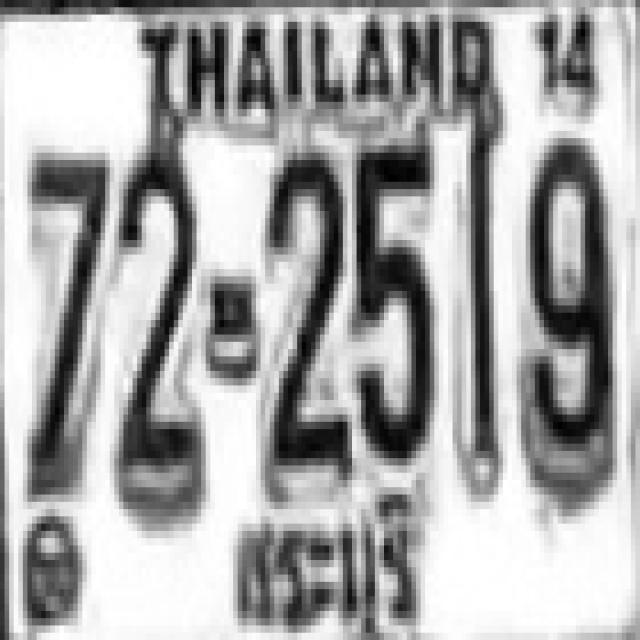2: (112, 142, 194, 447), (265, 149, 343, 469), (263, 145, 340, 451)
5: (352, 134, 430, 454)
7: (23, 145, 105, 480)
9: (519, 131, 610, 509), (517, 131, 608, 465)
SaraBuri: (229, 487, 425, 640)
